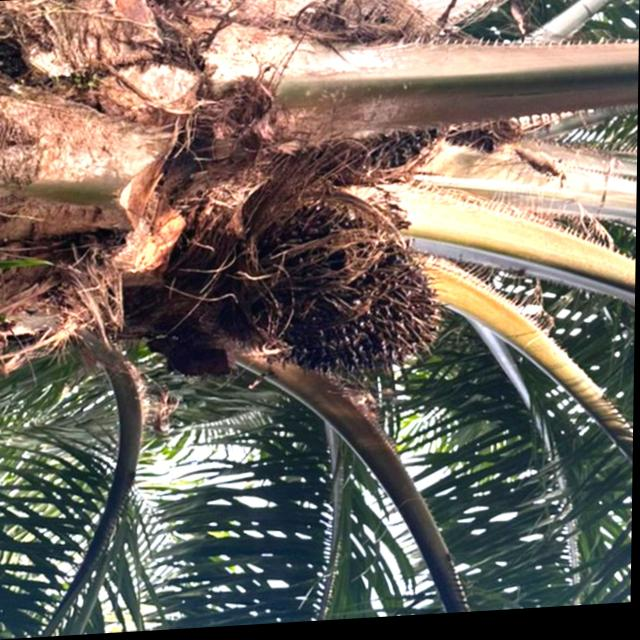almost: (243, 194, 450, 390)
